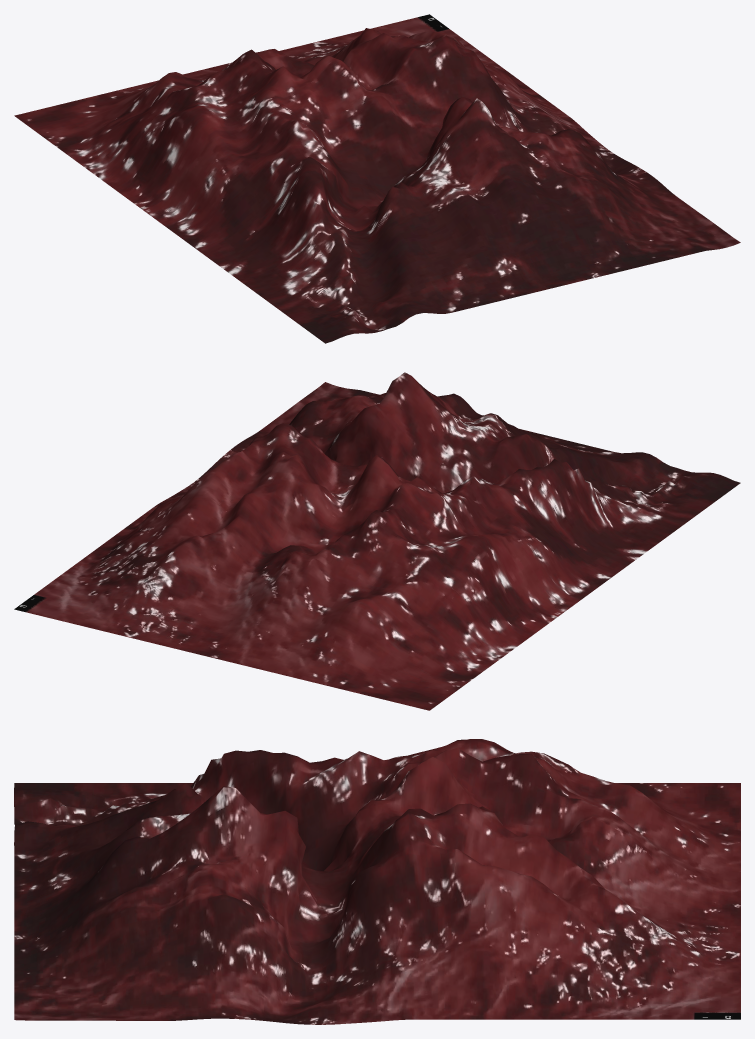
The model's file is montañas.gltf.
3 renders of one model, top to bottom at view 1: azimuth 30°, elevation 25°; view 2: azimuth 150°, elevation 25°; view 3: azimuth 270°, elevation 25°, orthographic. The views are drawn at different scales.
Visible parts, largest first — view 1: Landscape; view 2: Landscape; view 3: Landscape.
Part boxes in pixels (x1=…): Landscape: x1=14, y1=14, x2=740, y2=343; Landscape: x1=14, y1=372, x2=740, y2=710; Landscape: x1=14, y1=739, x2=740, y2=1024.
Size of the model in its own units: 6.47 by 1.88 by 8.39.
1 material, 1 textured.
